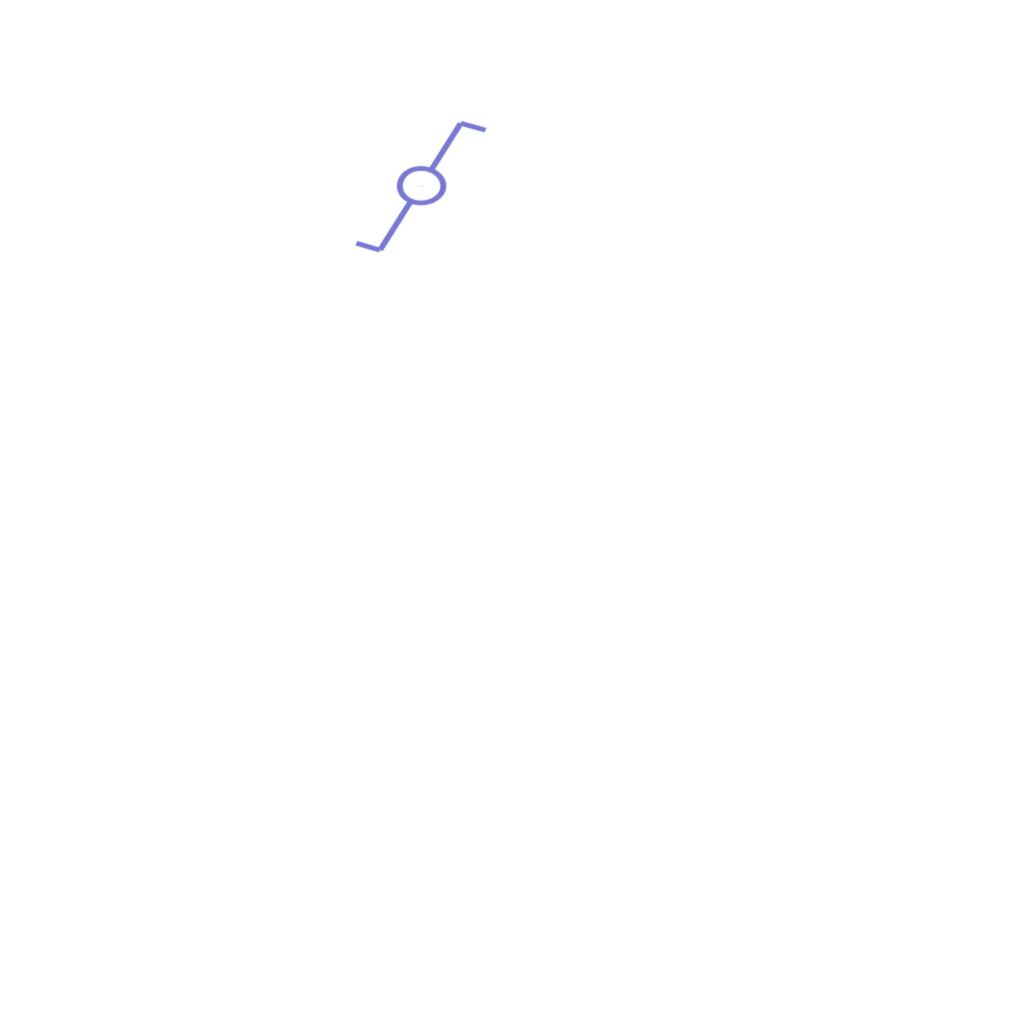Wechselschalter: (351, 116, 508, 260)
